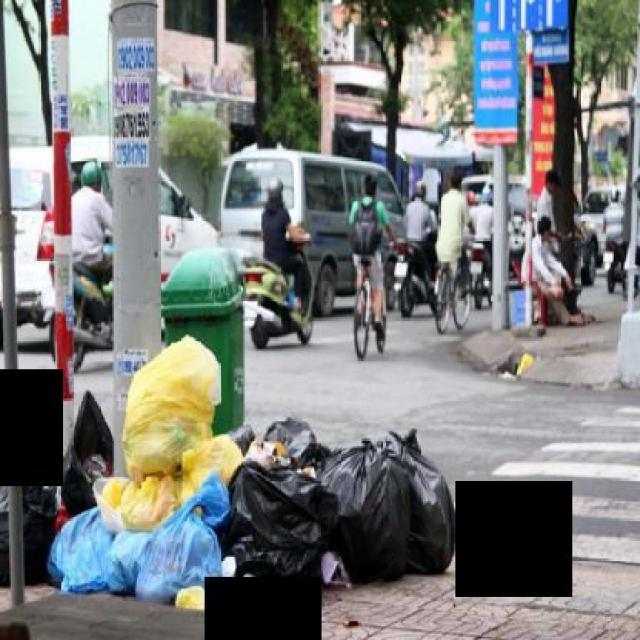plastic bag: (0, 332, 480, 623), (292, 426, 457, 589), (315, 423, 463, 588), (120, 329, 220, 477), (126, 472, 232, 608), (0, 415, 63, 591)
